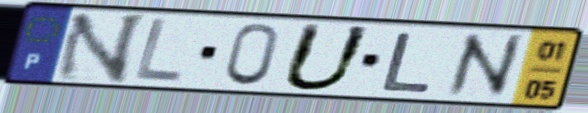0: (223, 22, 283, 88)
L: (130, 15, 186, 86), (377, 30, 436, 95)
N: (49, 12, 151, 85), (443, 31, 526, 100)
U: (277, 21, 377, 94)
